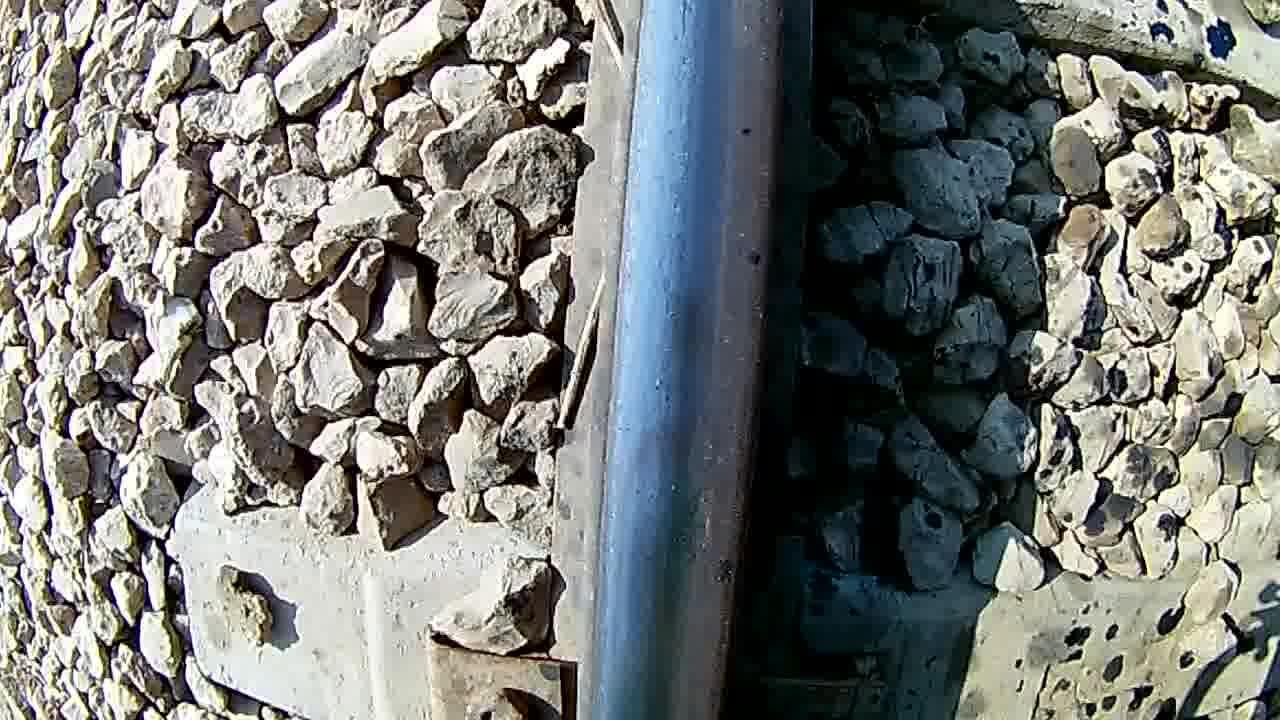crack: (636, 7, 786, 716)
